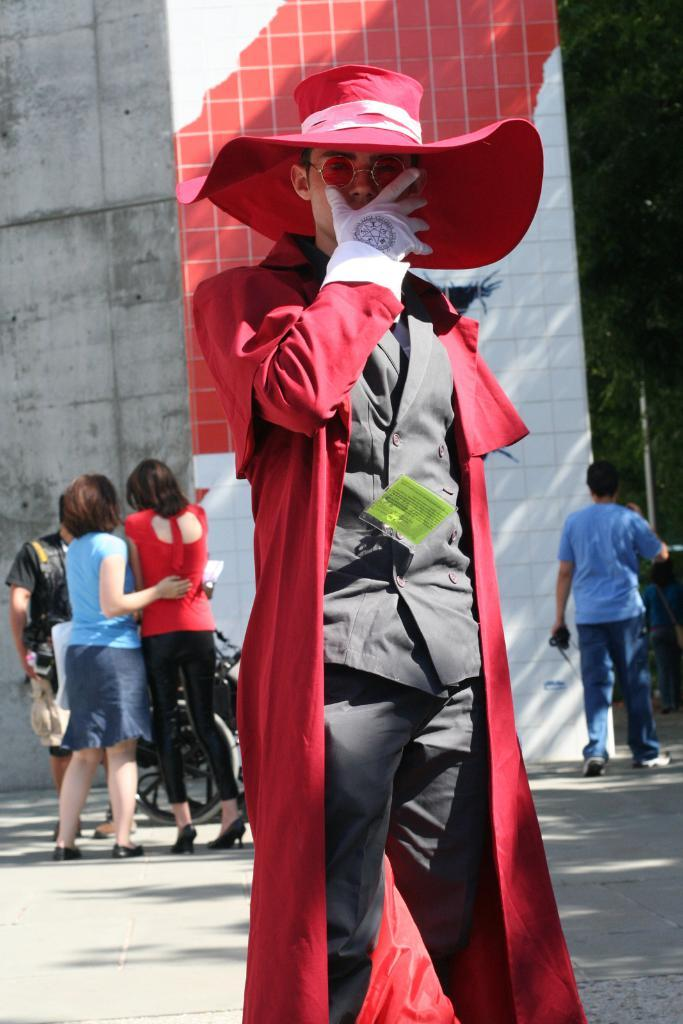Hat: (176, 62, 542, 272)
